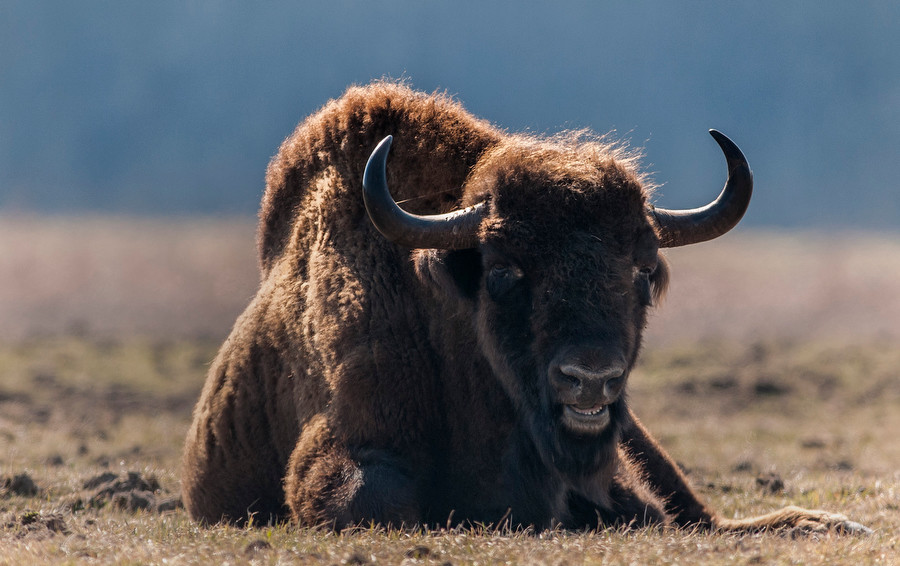zubr: (155, 59, 794, 517)
